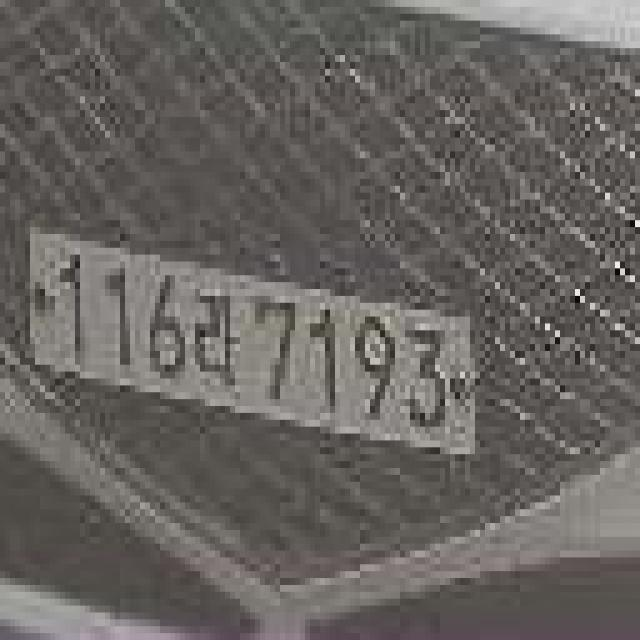illegal_plate: (9, 218, 489, 473)
